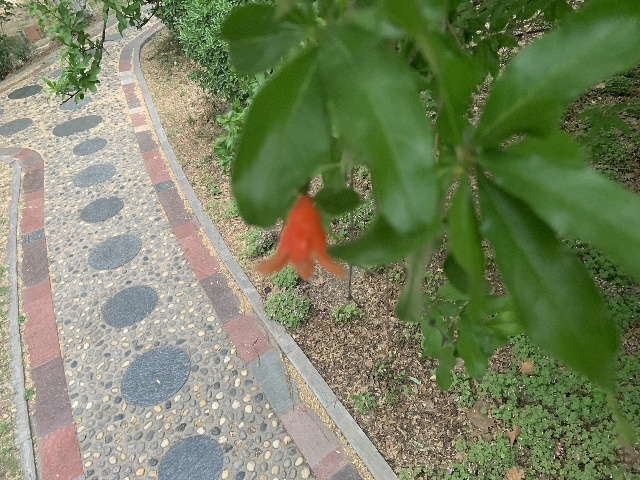flower: (256, 193, 346, 283)
